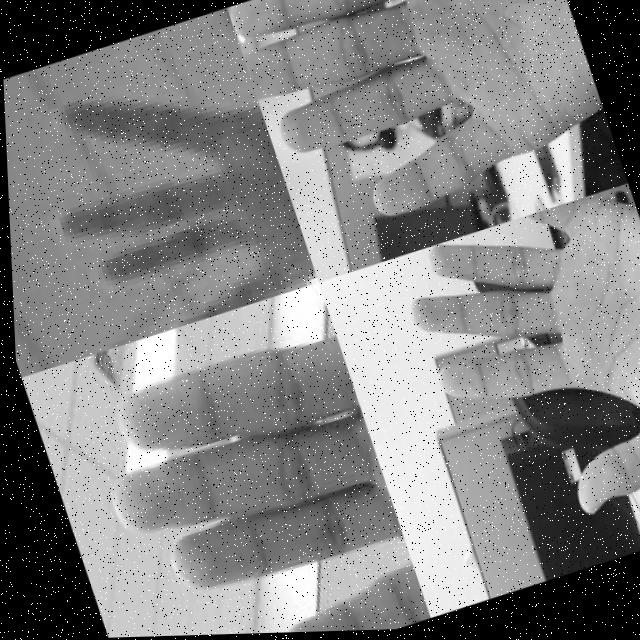hand: (54, 282, 423, 639), (0, 7, 317, 358), (225, 0, 618, 251), (384, 186, 640, 556)
